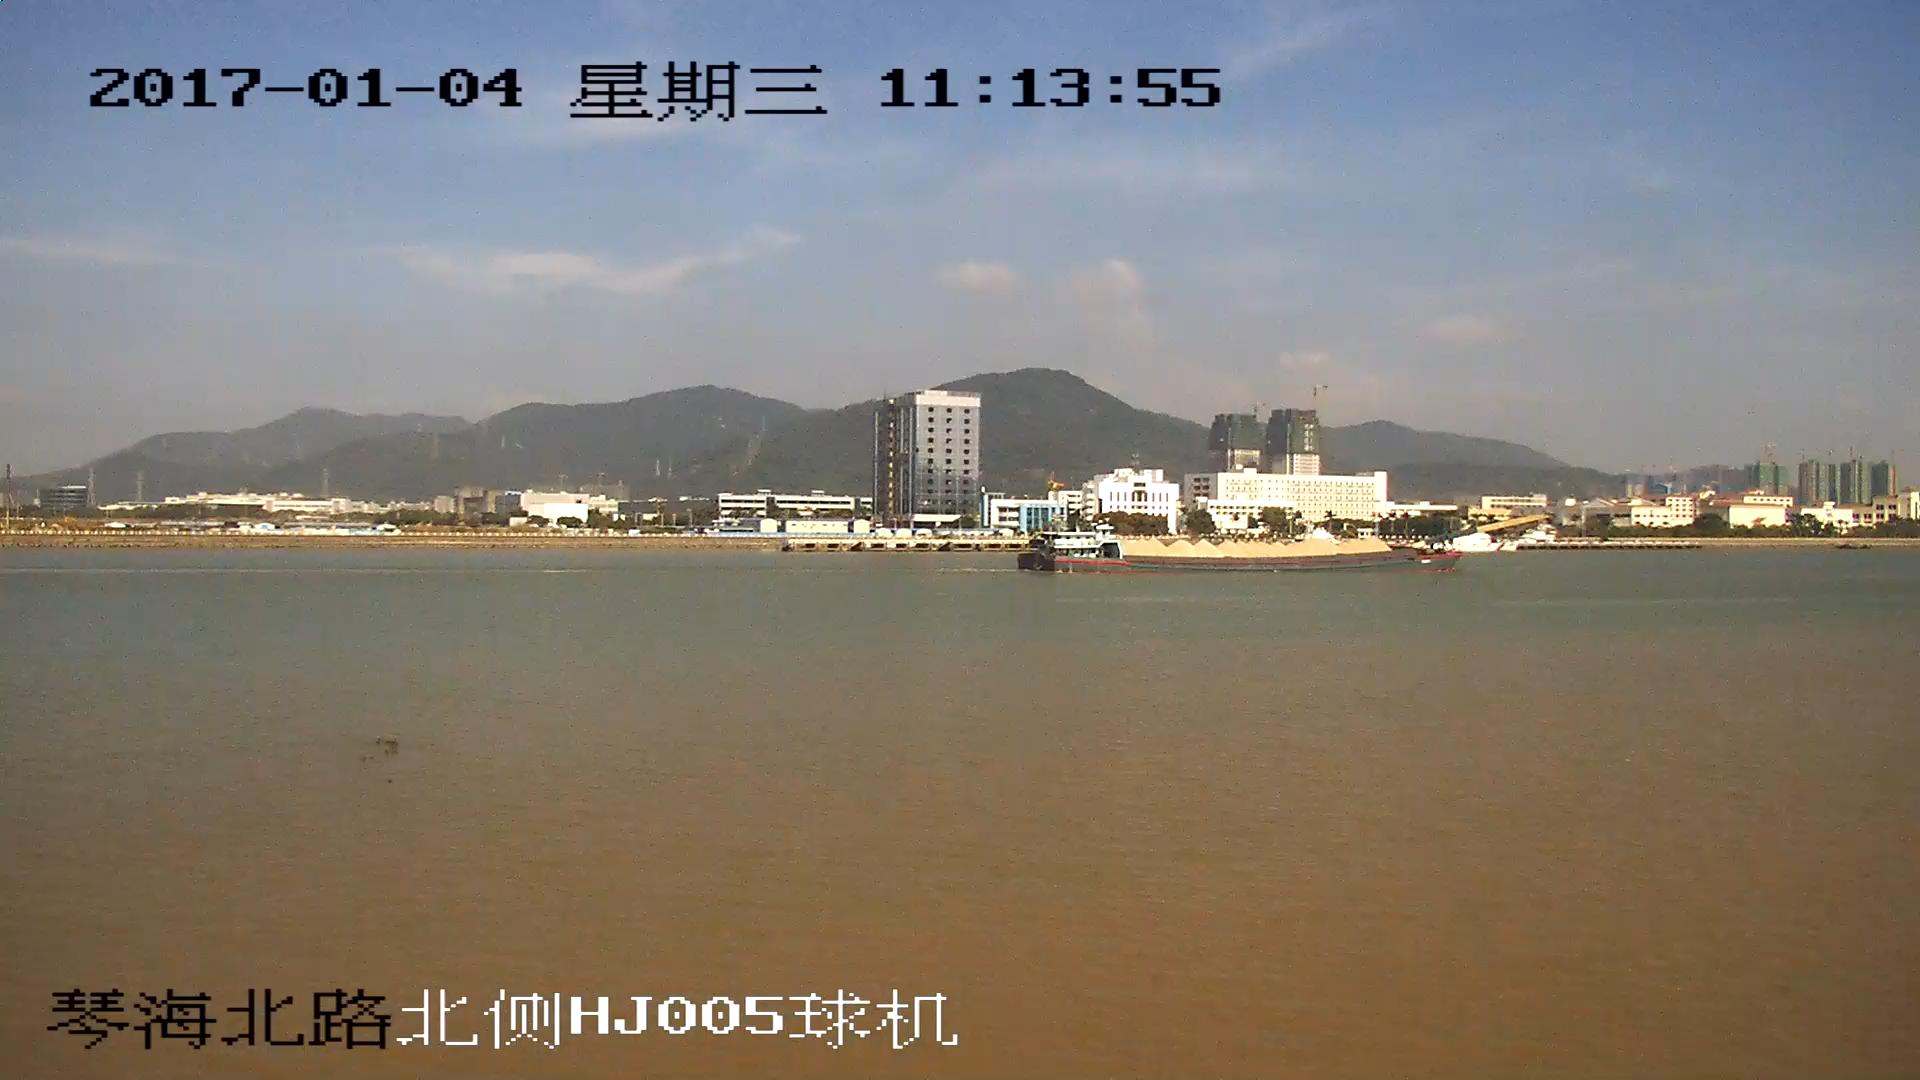ore carrier: (1022, 515, 1552, 569)
